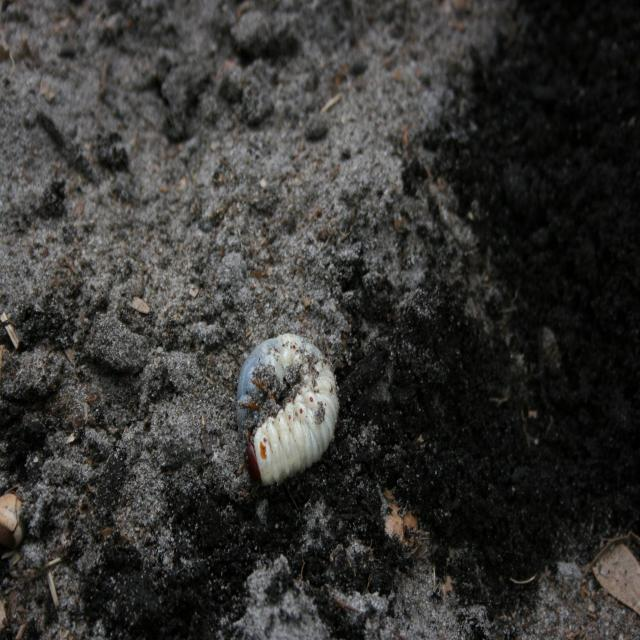Grub-Adult-: (229, 329, 342, 487)
